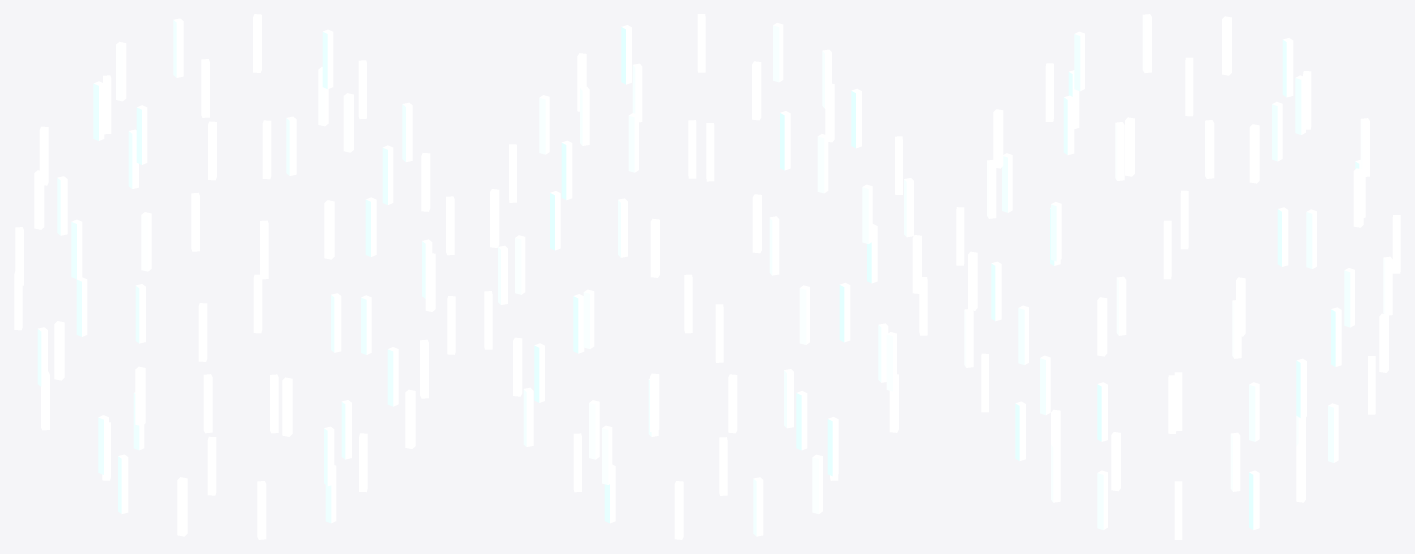
Rendered from ospite_shield.gltf.
3 views of the same model, side by side, from view 1: azimuth 30°, elevation 25°; view 2: azimuth 150°, elevation 25°; view 3: azimuth 270°, elevation 25° (orthographic).
Visible parts, largest first — view 1: ospite_shield; view 2: ospite_shield; view 3: ospite_shield.
Boxes of the visible parts, x1=… form: ospite_shield: x1=14, y1=14, x2=455, y2=539; ospite_shield: x1=484, y1=14, x2=927, y2=539; ospite_shield: x1=956, y1=14, x2=1400, y2=539.
Bounding box in the file's own units: 2.91 × 3 × 2.91.
